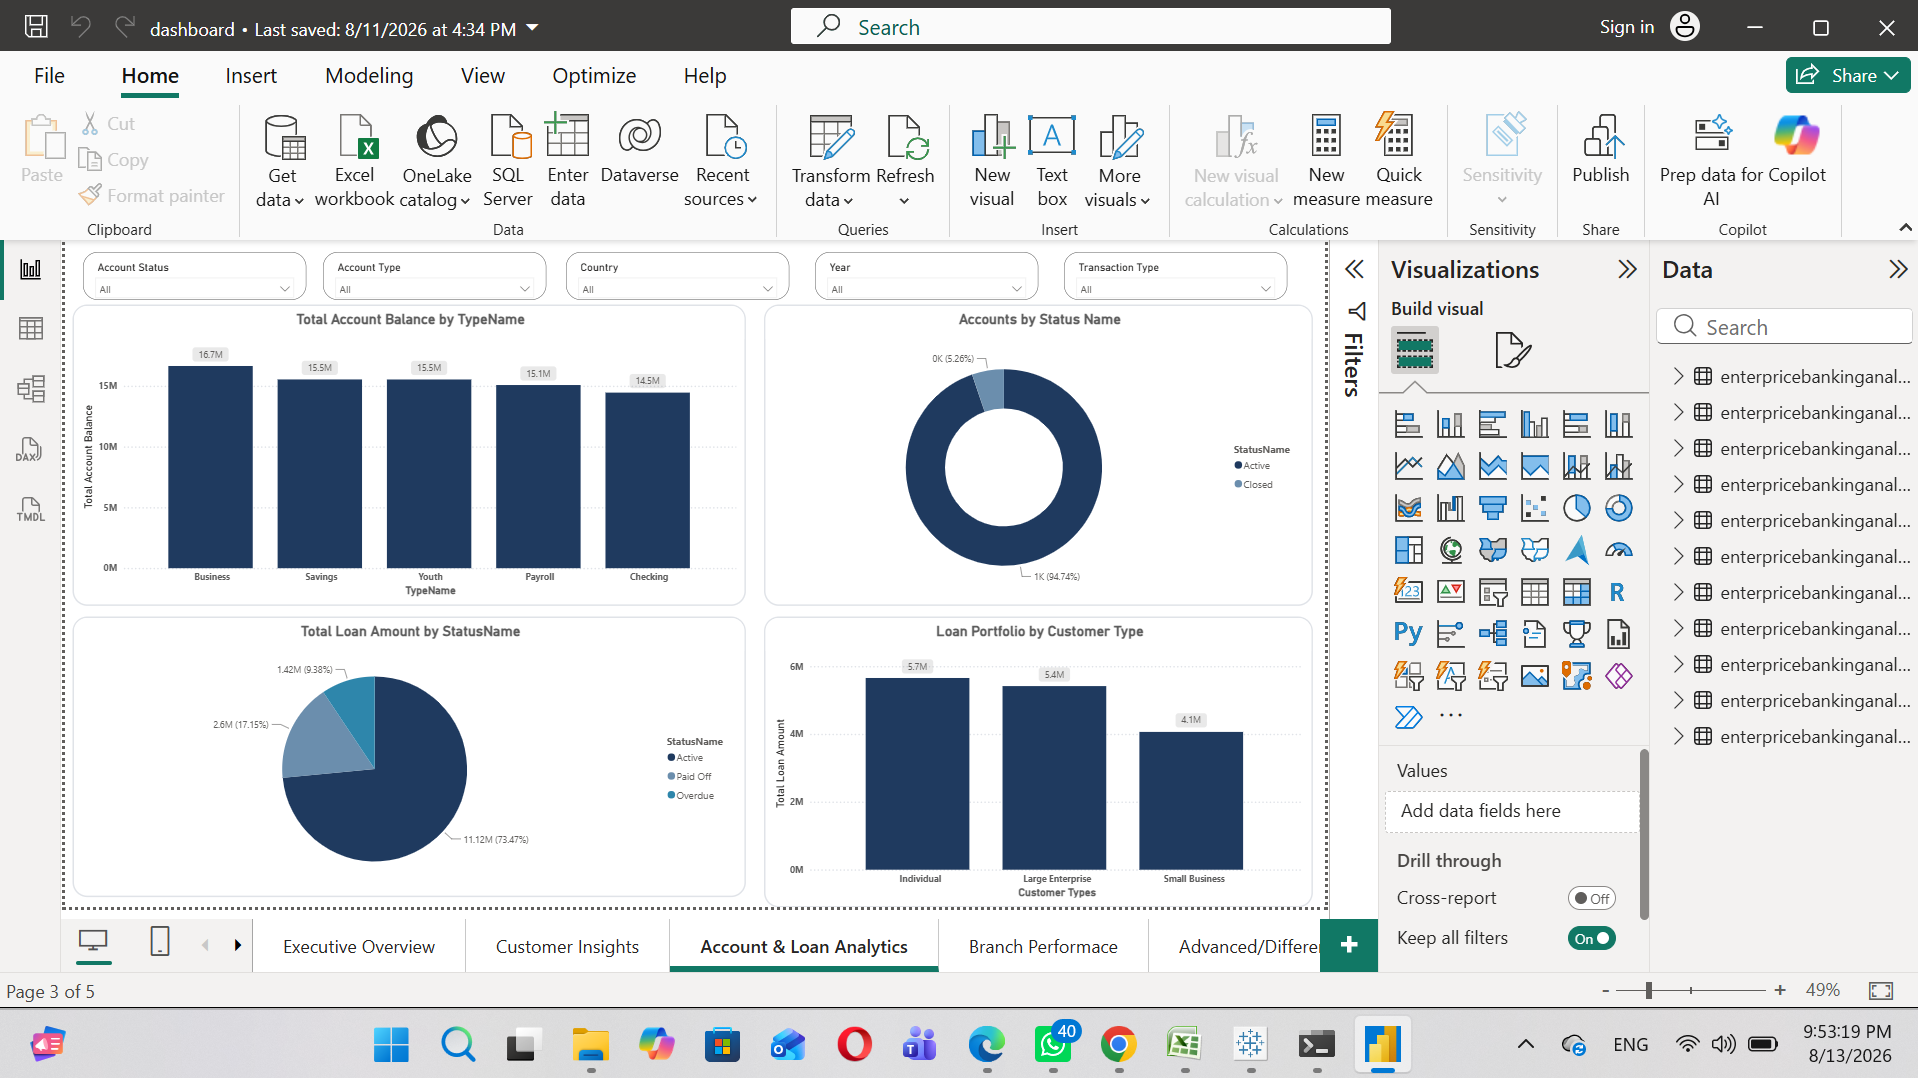

The page's visual inventory and layout, read from the dashboard file:
{"tool":"powerbi","page":{"name":"Account & Loan Analytics","canvas":[1700,900],"ordinal":2},"visuals":[{"type":"columnChart","fields":{"Category":["enterpricebankinganalyticsdb account_types.TypeName"],"Y":["enterpricebankinganalyticsdb accounts.Total Account Balance"]},"box":[10.1,87,908.8,406.8],"z":0},{"type":"donutChart","title":"Accounts by Status Name","fields":{"Category":["enterpricebankinganalyticsdb account_statuses.StatusName"],"Y":["enterpricebankinganalyticsdb accounts.Accounts"]},"box":[943.2,87,740.8,406.8],"z":1000},{"type":"pieChart","fields":{"Category":["enterpricebankinganalyticsdb loan_statuses.StatusName"],"Y":["enterpricebankinganalyticsdb loans.Total Loan Amount"]},"box":[10.1,508,908.8,378.5],"z":2000},{"type":"clusteredColumnChart","title":"Loan Portfolio by Customer Type","fields":{"Y":["enterpricebankinganalyticsdb loans.Total Loan Amount"],"Category":["enterpricebankinganalyticsdb customer_types.TypeName"]},"box":[943.2,508,740.8,392.7],"z":3000},{"type":"slicer","fields":{"Values":["enterpricebankinganalyticsdb account_statuses.StatusName"]},"box":[24.3,16.2,301.6,64.8],"z":3001},{"type":"slicer","fields":{"Values":["enterpricebankinganalyticsdb account_types.TypeName"]},"box":[348.1,16.2,301.6,64.8],"z":3002},{"type":"slicer","fields":{"Values":["enterpricebankinganalyticsdb transactions.TransactionDate.Variation.Date Hierarchy.Year"]},"box":[1012,16.2,301.6,64.8],"z":3003},{"type":"slicer","fields":{"Values":["enterpricebankinganalyticsdb addresses.Country"]},"box":[676,16.2,301.6,64.8],"z":3004},{"type":"slicer","fields":{"Values":["enterpricebankinganalyticsdb transaction_types.TypeName"]},"box":[1348,16.2,301.6,64.8],"z":3005}]}

Visuals, with their boxes on the page's 1700x900 design canvas (x1, y1, x2, y2). These are canvas units, not pixel positions in the 1918x1078 screenshot, which may show the page scaled, cropped or inside an application window:
columnChart - enterpricebankinganalyticsdb account_types.TypeName x enterpricebankinganalyticsdb accounts.Total Account Balance: bbox=(10, 87, 919, 494)
"Accounts by Status Name" donutChart: bbox=(943, 87, 1684, 494)
pieChart - enterpricebankinganalyticsdb loan_statuses.StatusName x enterpricebankinganalyticsdb loans.Total Loan Amount: bbox=(10, 508, 919, 886)
"Loan Portfolio by Customer Type" clusteredColumnChart: bbox=(943, 508, 1684, 901)
slicer - enterpricebankinganalyticsdb account_statuses.StatusName: bbox=(24, 16, 326, 81)
slicer - enterpricebankinganalyticsdb account_types.TypeName: bbox=(348, 16, 650, 81)
slicer - enterpricebankinganalyticsdb transactions.TransactionDate.Variation.Date Hierarchy.Year: bbox=(1012, 16, 1314, 81)
slicer - enterpricebankinganalyticsdb addresses.Country: bbox=(676, 16, 978, 81)
slicer - enterpricebankinganalyticsdb transaction_types.TypeName: bbox=(1348, 16, 1650, 81)
